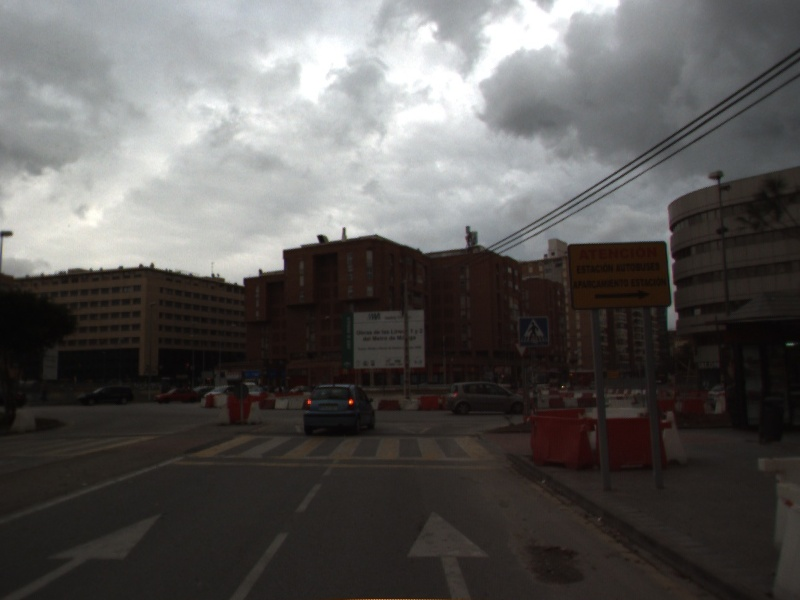STRAIGHT: (1, 507, 168, 600), (402, 505, 493, 600)
